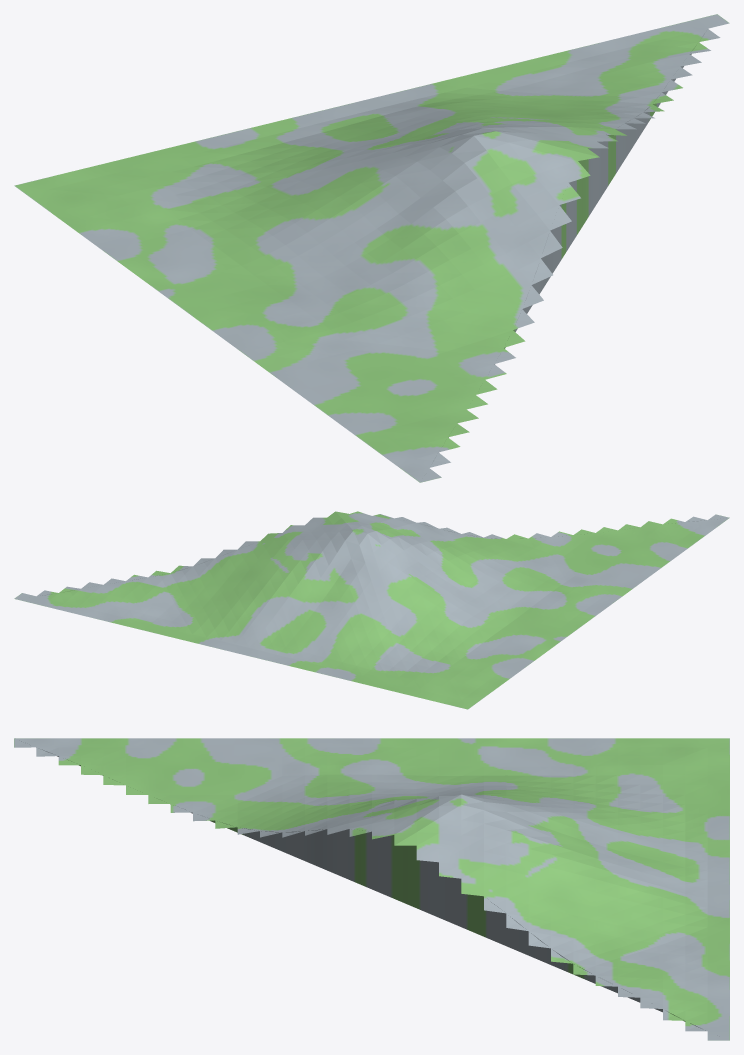
The model's file is Grass_RockyGround_09_SW.obj.
3 views of the same model, one above another, from view 1: azimuth 30°, elevation 25°; view 2: azimuth 150°, elevation 25°; view 3: azimuth 270°, elevation 25° (orthographic). The views are drawn at different scales.
Bounding box in the file's own units: 10 × 1.17 × 10.
1 material, 1 textured.
